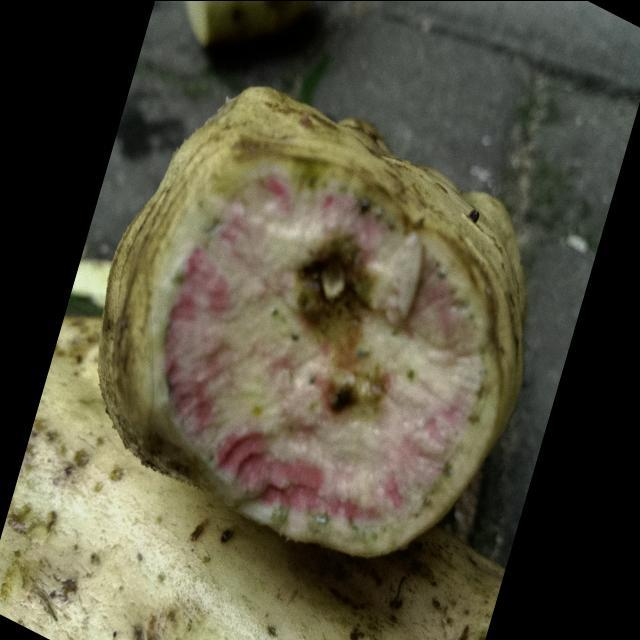Sick Sweet Potato_Tuber Rot: (165, 163, 485, 538)
